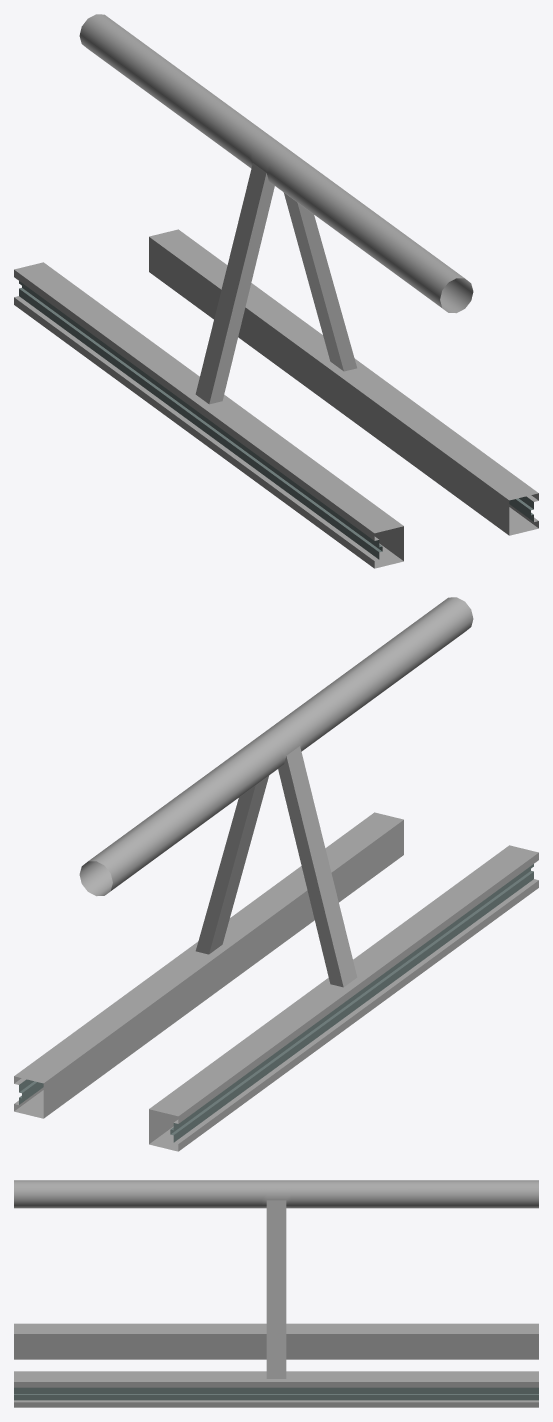
The model's file is BridgeSegment.fbx.
3 views of the same model, one above another, from view 1: azimuth 30°, elevation 25°; view 2: azimuth 150°, elevation 25°; view 3: azimuth 270°, elevation 25° (orthographic). The views are drawn at different scales.
Visible parts, largest first — view 1: BridgeSegment; view 2: BridgeSegment; view 3: BridgeSegment.
Boxes of the visible parts, <box> form: BridgeSegment: <box>14,14,538,568</box>; BridgeSegment: <box>14,597,538,1151</box>; BridgeSegment: <box>14,1180,538,1407</box>.
Size of the model in its own units: 26.34 by 41.39 by 100.
